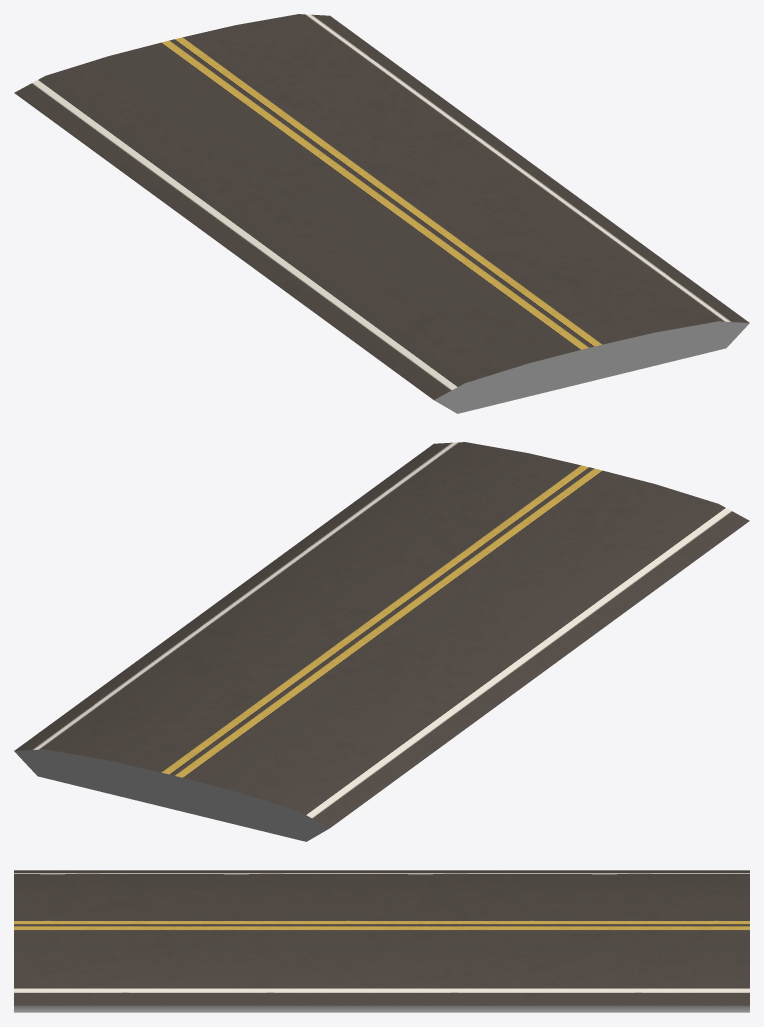
The model's file is central_roadsection.fbx.
3 renders of one model, top to bottom at view 1: azimuth 30°, elevation 25°; view 2: azimuth 150°, elevation 25°; view 3: azimuth 270°, elevation 25°, orthographic. The views are drawn at different scales.
Visible parts, largest first — view 1: roadsection; view 2: roadsection; view 3: roadsection.
Part boxes in pixels (x1,y1,x2,y2): roadsection: (14, 14, 749, 413); roadsection: (14, 442, 749, 841); roadsection: (14, 870, 749, 1012).
Bounding box in the file's own units: 7.9 × 0.8135 × 18.18.
2 materials, 1 textured.
